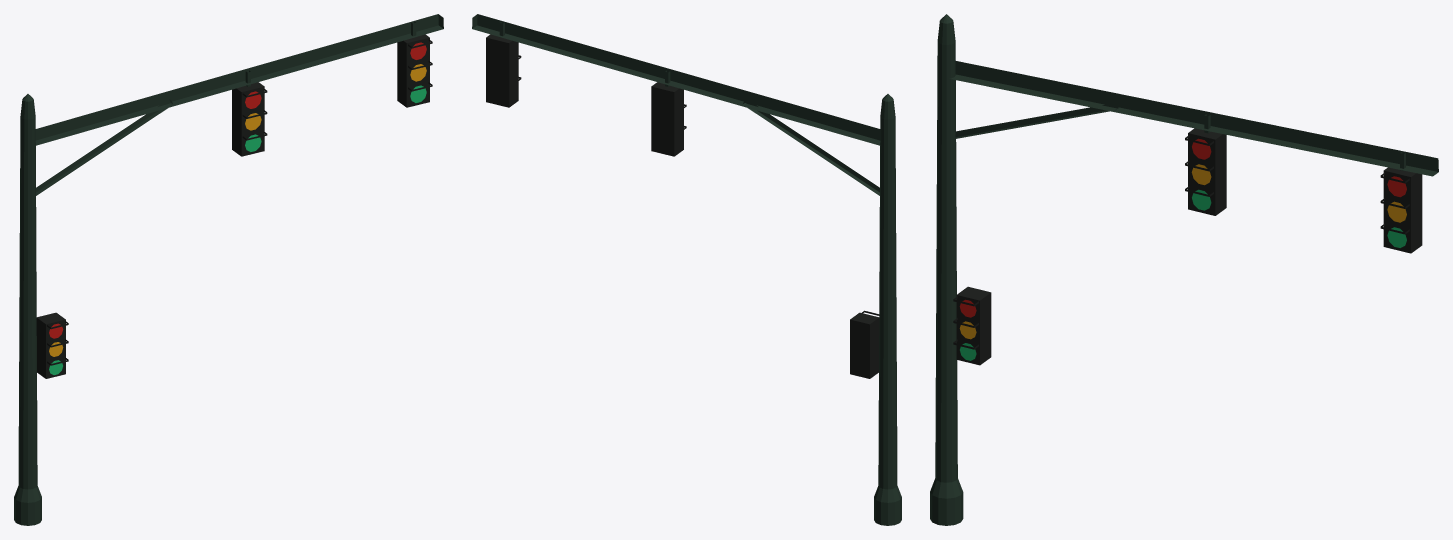
Rendered from traffic_signal.glb.
The picture shows the model from 3 angles, left to right: view 1: azimuth 30°, elevation 25°; view 2: azimuth 150°, elevation 25°; view 3: azimuth 330°, elevation 25°; orthographic projection. The views are drawn at different scales.
Parts seen in each view (by area): view 1: signal_body, lens_red, lens_green, lens_yellow; view 2: signal_body; view 3: signal_body, lens_red, lens_yellow, lens_green.
Part boxes in pixels (box(x1,y1,x2,y2)): signal_body: box(14, 14, 443, 525); lens_red: box(49, 42, 426, 338); lens_green: box(49, 85, 426, 375); lens_yellow: box(49, 64, 426, 356); signal_body: box(472, 14, 901, 525); signal_body: box(930, 14, 1438, 525); lens_red: box(959, 138, 1406, 317); lens_yellow: box(959, 164, 1406, 339); lens_green: box(960, 189, 1406, 360).
Size of the model in its own units: 7.72 by 7.4 by 0.49.
Materials: 4 (1 with a texture image).
